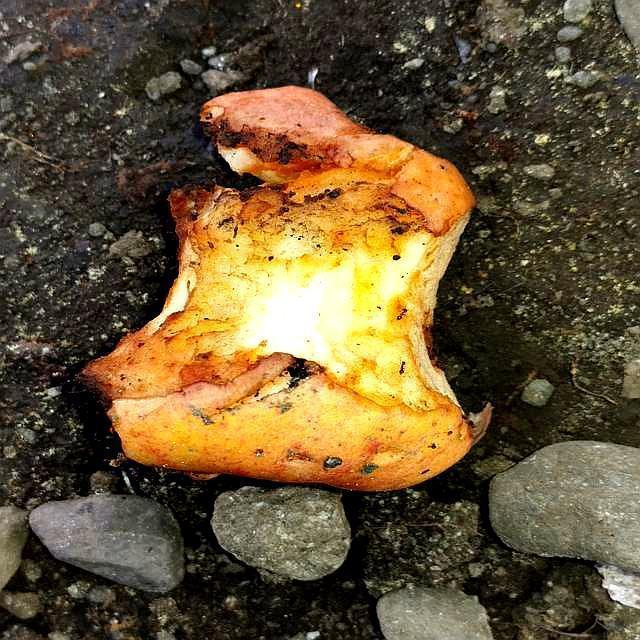Biodegradable: (85, 89, 493, 497)
